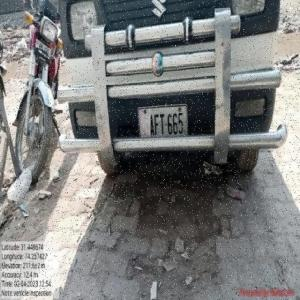Plate: (138, 104, 188, 141)
